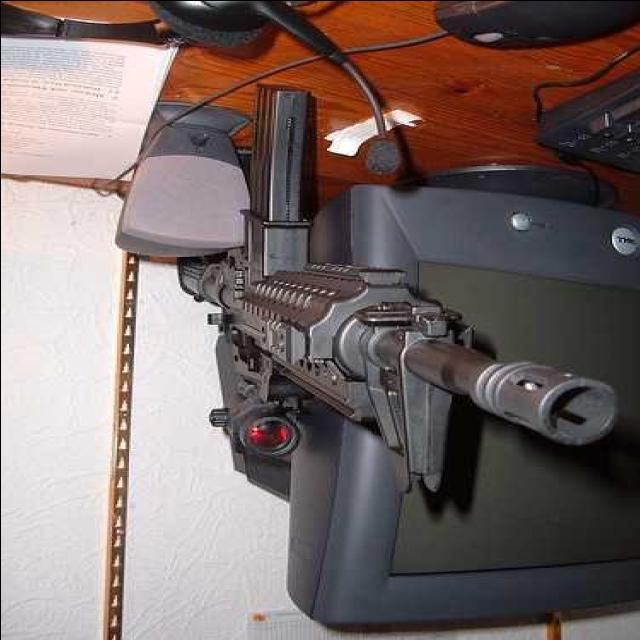heavyweapon: (126, 73, 631, 499)
